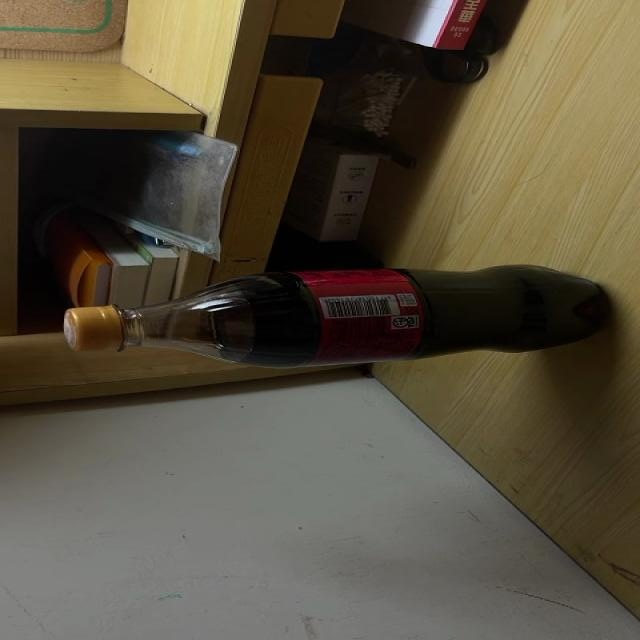Coca-Cola: (64, 263, 606, 367)
